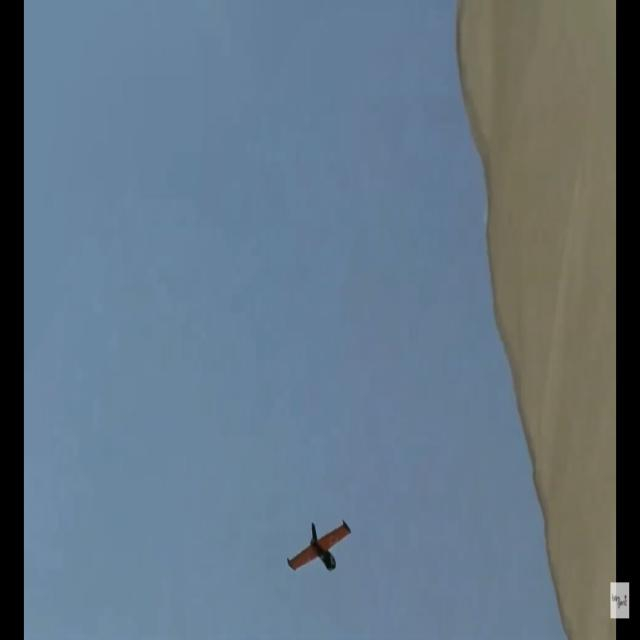iha: (316, 516, 322, 573)
